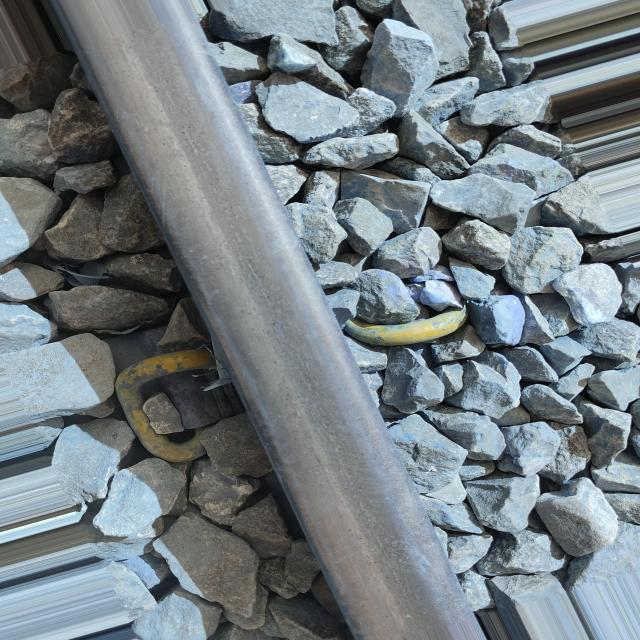Good Fasteners: (116, 348, 243, 462), (345, 305, 467, 346)
